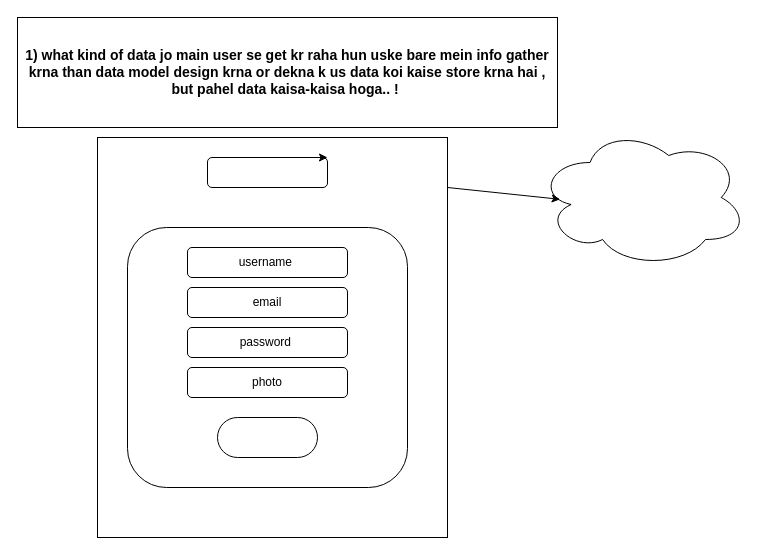
This 765x555 diagram has some shape labels left out. The box of each missing label's shape, as (x1, y1, x2, y2) in pixels:
Register Now: (216, 416, 318, 458)
Register page: (206, 156, 328, 188)
this is not ui it data fields: (536, 126, 748, 268)
